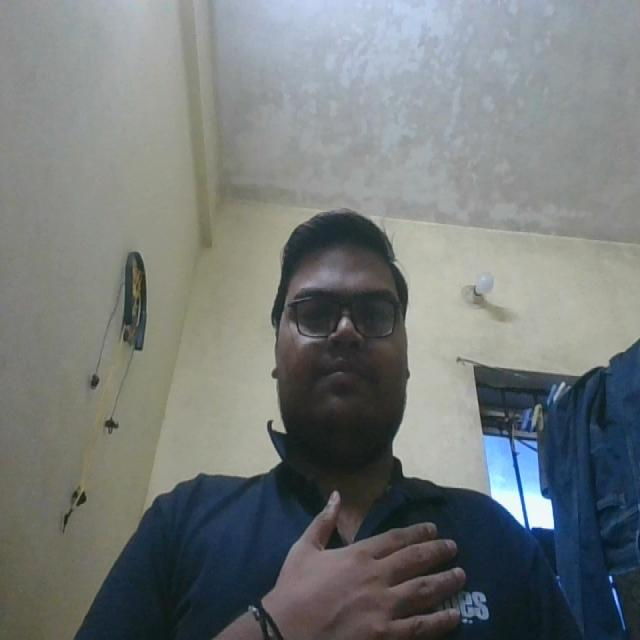Please: (274, 486, 474, 640)
